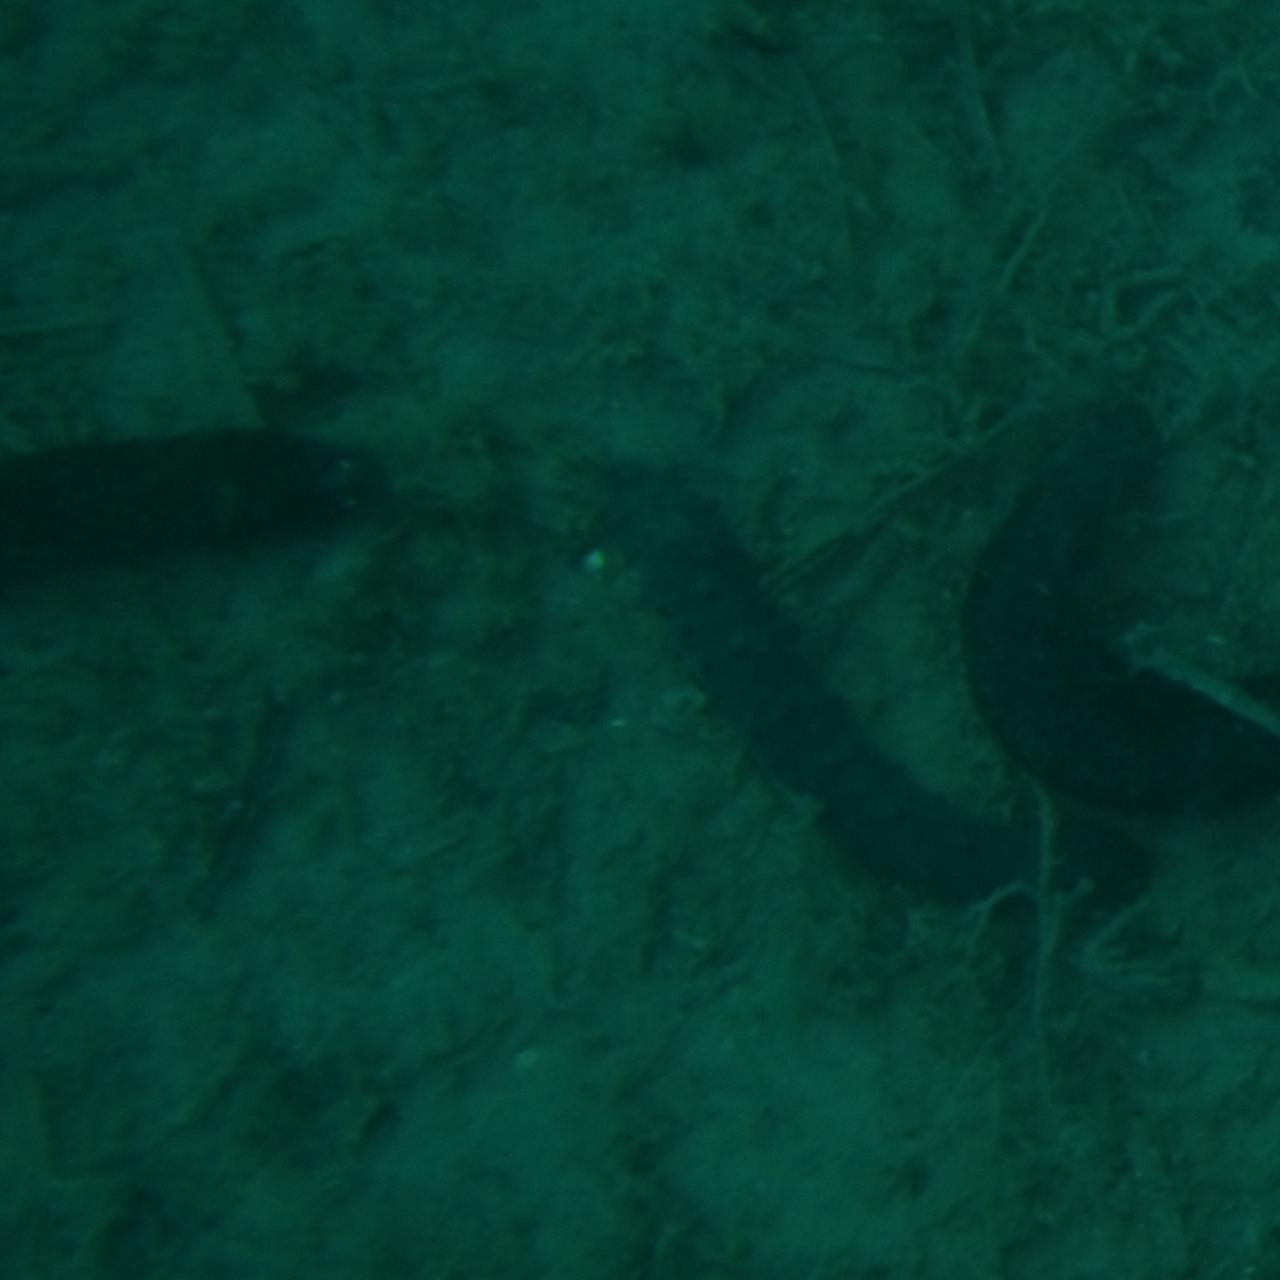Holothuria tubulosa: (556, 442, 1175, 915), (0, 427, 408, 806), (956, 397, 1280, 805)
